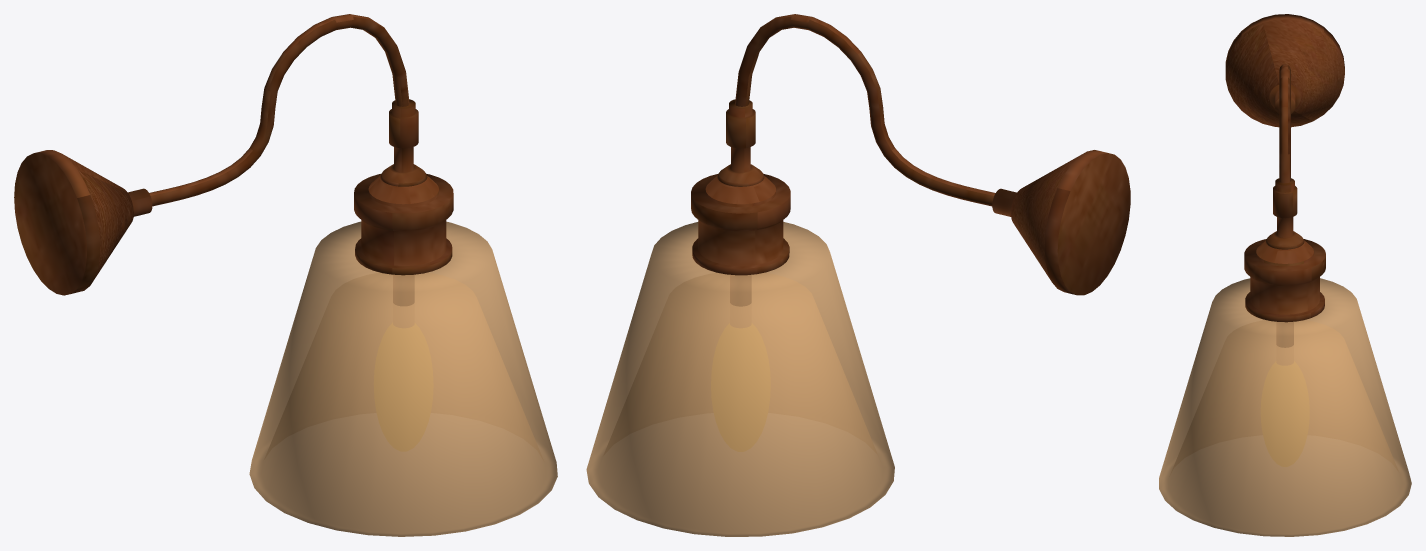
Rendered from walllamp.glb.
3 views of the same model, side by side, from view 1: azimuth 30°, elevation 25°; view 2: azimuth 150°, elevation 25°; view 3: azimuth 270°, elevation 25° (orthographic). The views are drawn at different scales.
Parts seen in each view (by area): view 1: LAMP; view 2: LAMP; view 3: LAMP.
Part boxes in pixels (x1,y1,x2,y2): LAMP: [14, 14, 557, 536]; LAMP: [586, 14, 1130, 536]; LAMP: [1159, 14, 1411, 536].
Bounding box in the file's own units: 2.49 × 2.31 × 1.37.
Materials: 3 (1 with a texture image).
